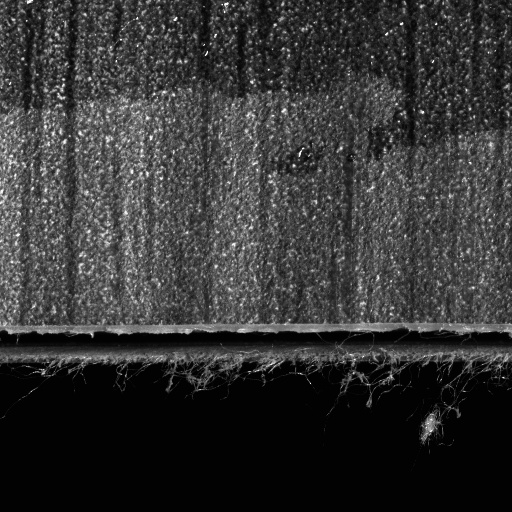kaijiao: (0, 317, 511, 373)
